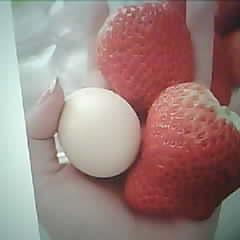straw-ripe: (126, 84, 240, 214)
